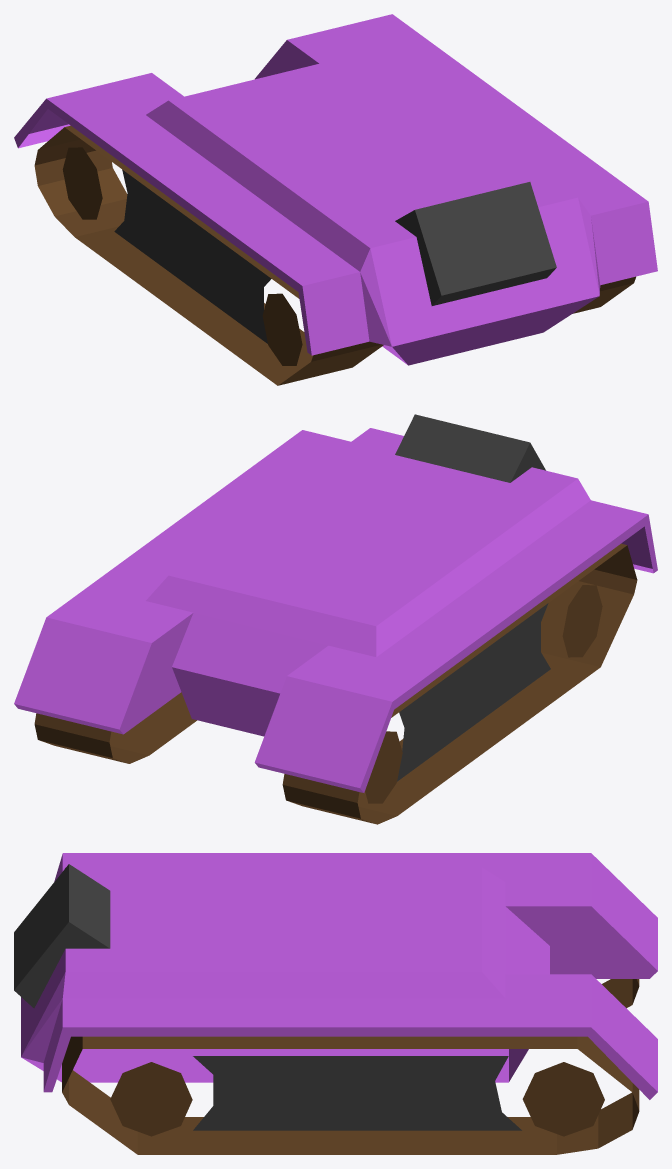
Rendered from tank.FBX.
3 renders of one model, top to bottom at view 1: azimuth 30°, elevation 25°; view 2: azimuth 150°, elevation 25°; view 3: azimuth 270°, elevation 25°, orthographic. The views are drawn at different scales.
Visible parts, largest first — view 1: VIFS002, VIFS003, VIFS001; view 2: VIFS002, VIFS001, VIFS003; view 3: VIFS002, VIFS001, VIFS003.
Boxes of the visible parts, bbox=[...] form: VIFS002: bbox=[14, 14, 657, 365]; VIFS003: bbox=[114, 169, 556, 343]; VIFS001: bbox=[34, 125, 635, 385]; VIFS002: bbox=[14, 428, 657, 792]; VIFS001: bbox=[34, 543, 637, 824]; VIFS003: bbox=[395, 414, 550, 781]; VIFS002: bbox=[21, 853, 657, 1099]; VIFS001: bbox=[62, 979, 639, 1154]; VIFS003: bbox=[14, 864, 521, 1130].
Size of the model in its own units: 1.21 by 0.5835 by 1.89.
